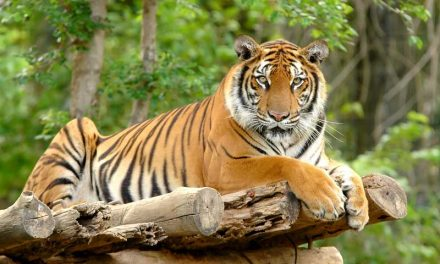Tigrew: (29, 28, 390, 248)
